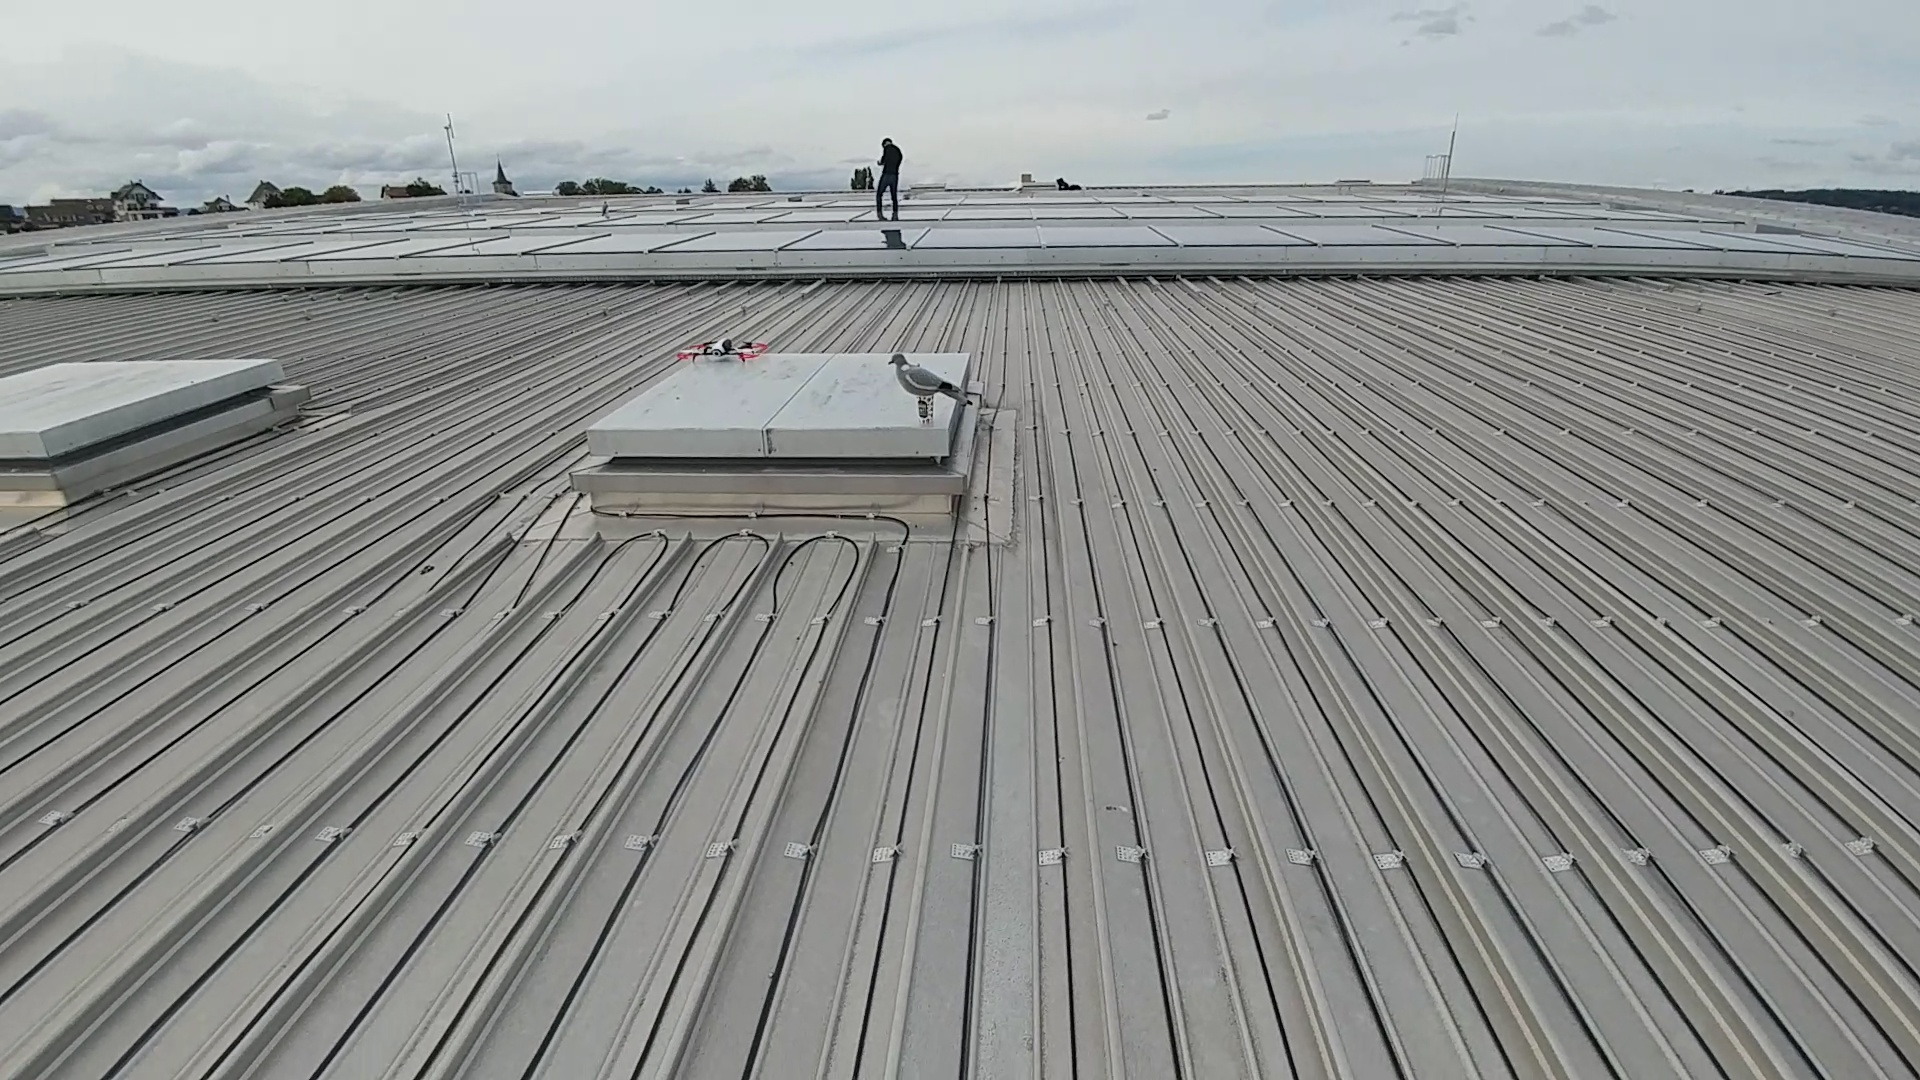Pigeon: (886, 351, 985, 397)
